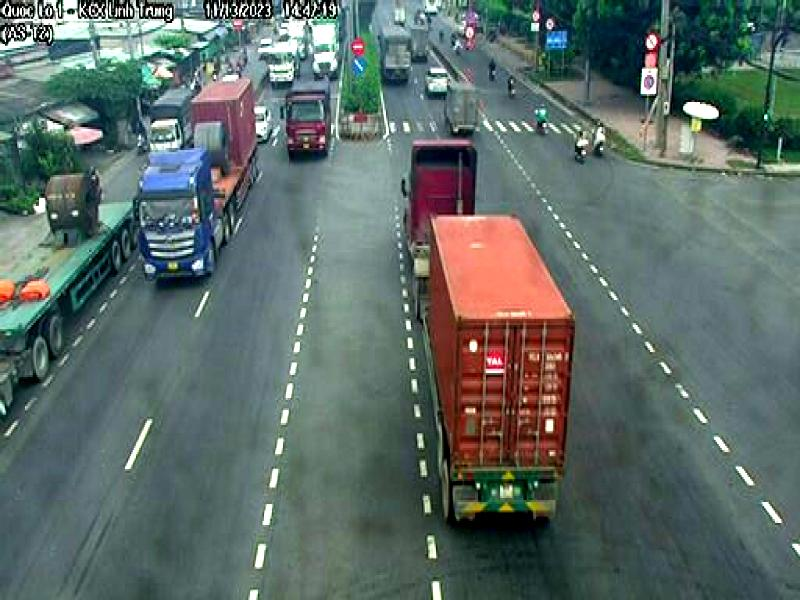truck: (135, 73, 263, 282)
